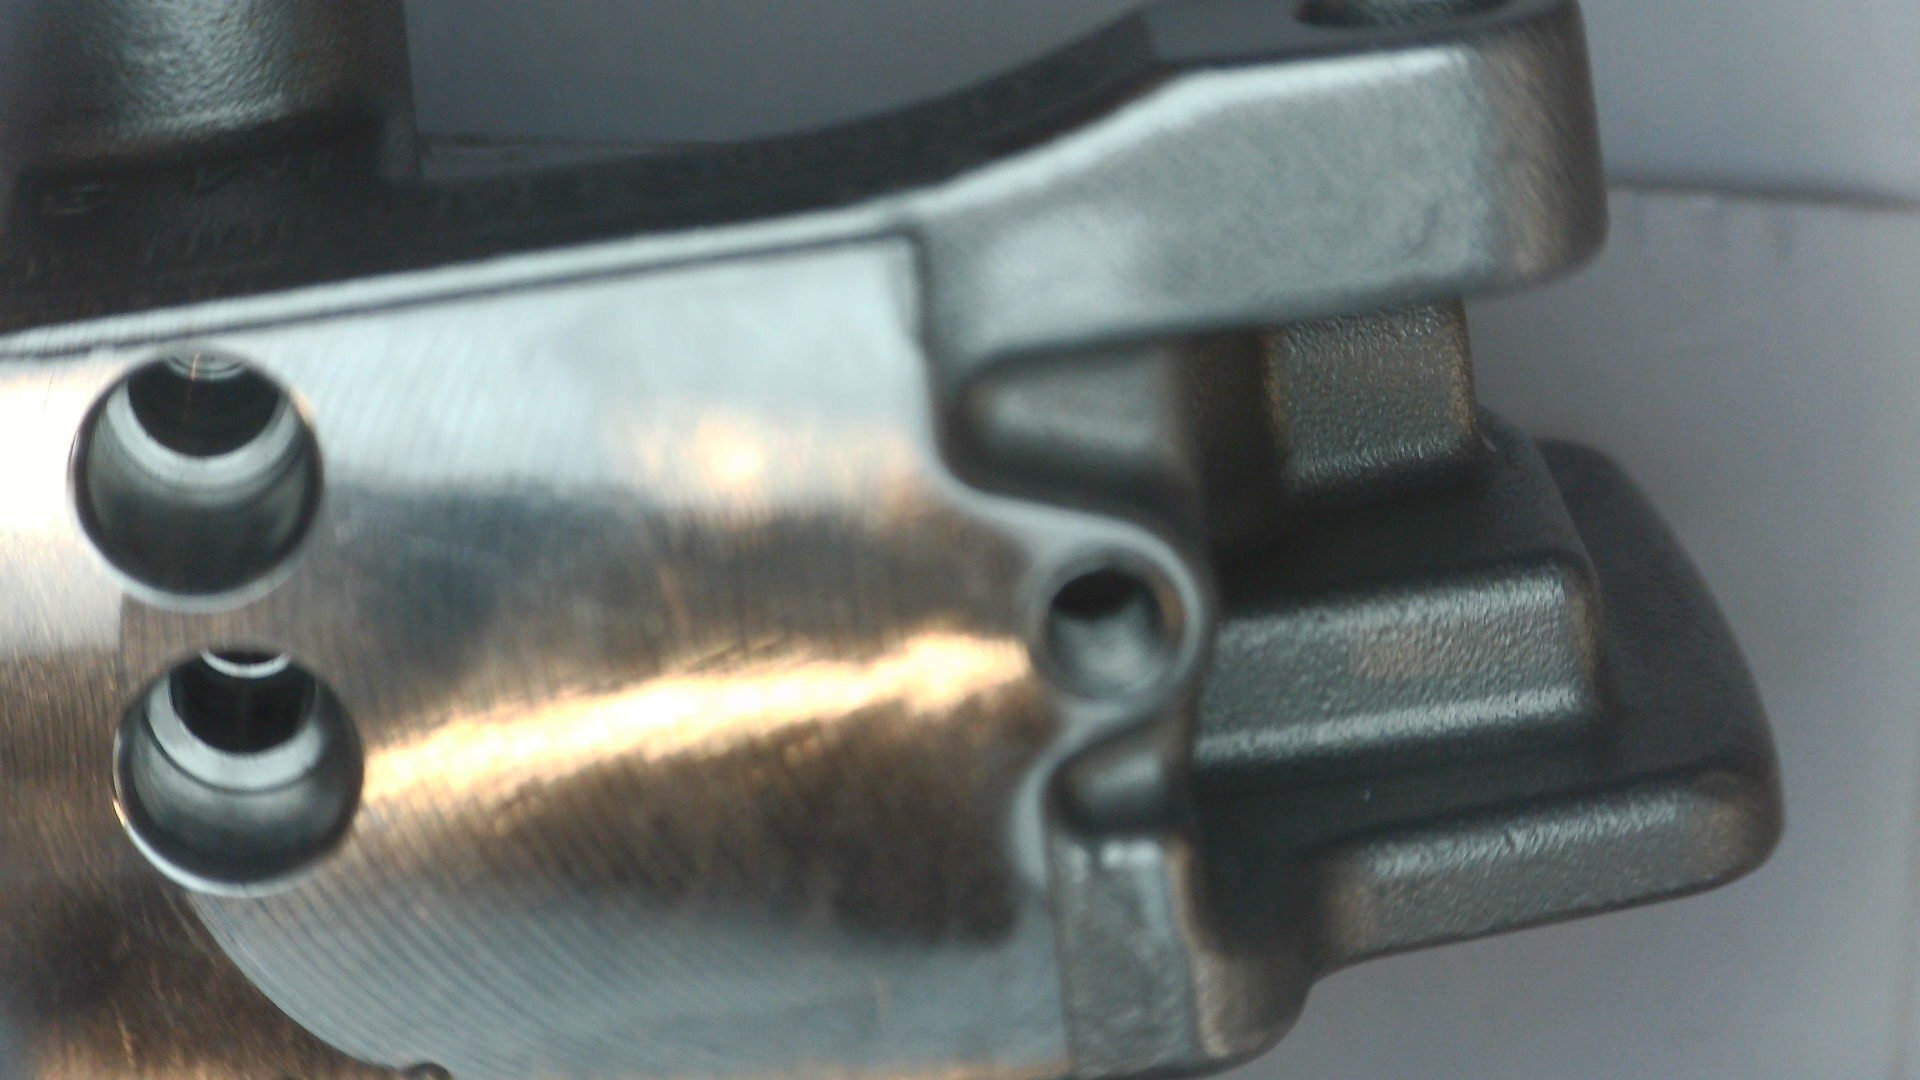thread_absence: (58, 338, 335, 613), (103, 640, 367, 903)
thread_presence: (1040, 564, 1172, 694)
